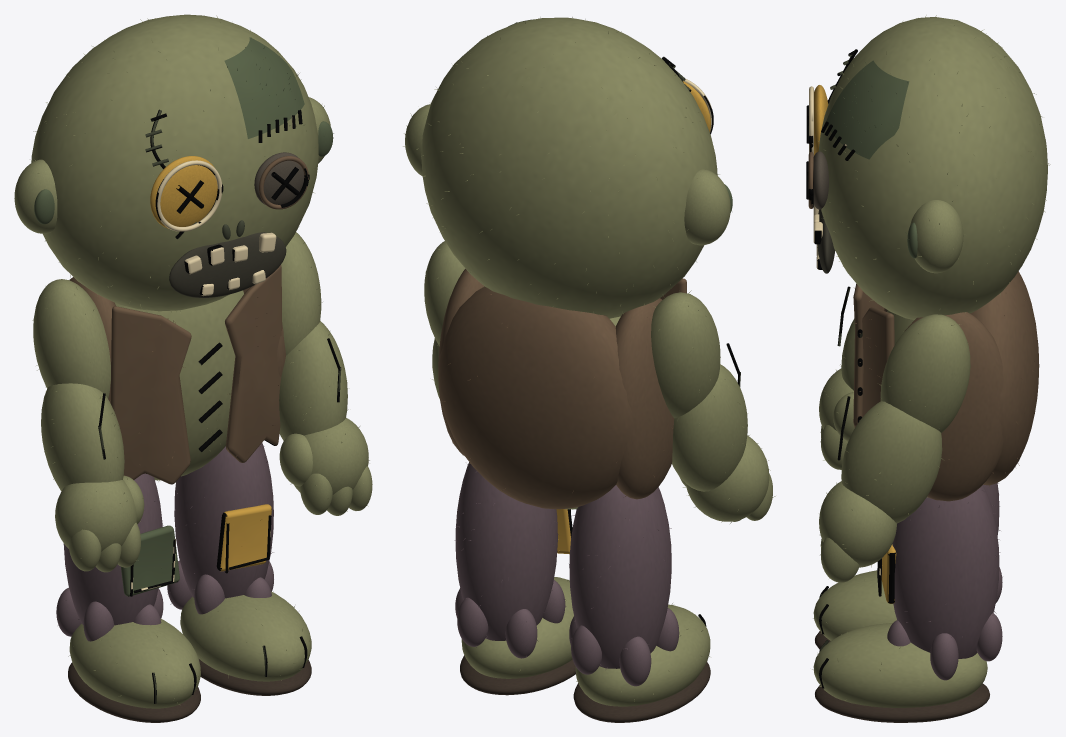
File: walker.glb
3 renders of one model, left to right at view 1: azimuth 30°, elevation 25°; view 2: azimuth 150°, elevation 25°; view 3: azimuth 270°, elevation 25°, orthographic. The views are drawn at different scales.
Parts seen in each view (by area): view 1: Mesh / Head, Mesh / Body, Mesh / LegR, Mesh / ArmL, Mesh / LegL, Mesh / ArmR; view 2: Mesh / Head, Mesh / Body, Mesh / LegL, Mesh / LegR, Mesh / ArmL, Mesh / ArmR; view 3: Mesh / Head, Mesh / LegR, Mesh / ArmR, Mesh / Body, Mesh / LegL, Mesh / ArmL.
Boxes of the visible parts, <box> form: Mesh / Head: <box>14,14,333,311</box>; Mesh / Body: <box>69,265,285,484</box>; Mesh / LegR: <box>167,443,311,695</box>; Mesh / ArmL: <box>33,279,144,572</box>; Mesh / LegL: <box>56,473,200,722</box>; Mesh / ArmR: <box>279,232,372,515</box>; Mesh / Head: <box>405,17,732,318</box>; Mesh / Body: <box>438,269,686,509</box>; Mesh / LegL: <box>569,485,710,722</box>; Mesh / LegR: <box>455,462,575,695</box>; Mesh / ArmL: <box>651,292,772,521</box>; Mesh / ArmR: <box>424,241,465,398</box>; Mesh / Head: <box>806,17,1047,319</box>; Mesh / LegR: <box>813,485,1002,722</box>; Mesh / ArmR: <box>819,314,970,582</box>; Mesh / Body: <box>853,271,1039,501</box>; Mesh / LegL: <box>813,483,1002,649</box>; Mesh / ArmL: <box>819,286,854,469</box>.
Bounding box in the file's own units: 1.01 × 2.02 × 0.6908.
52 materials, 10 textured.
